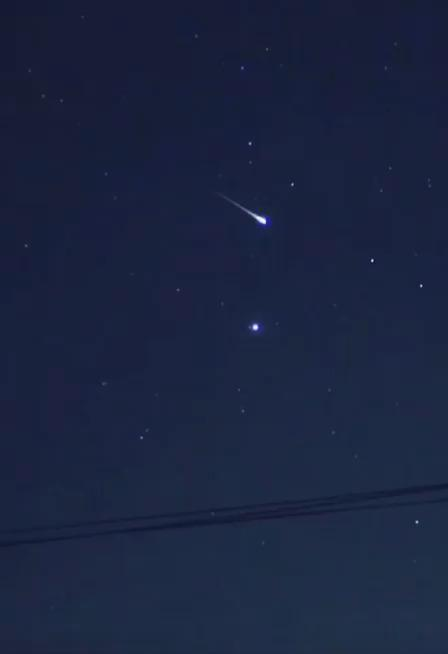meteorite: (201, 182, 285, 236)
